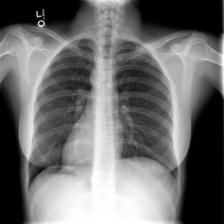normal: (23, 31, 182, 191)
